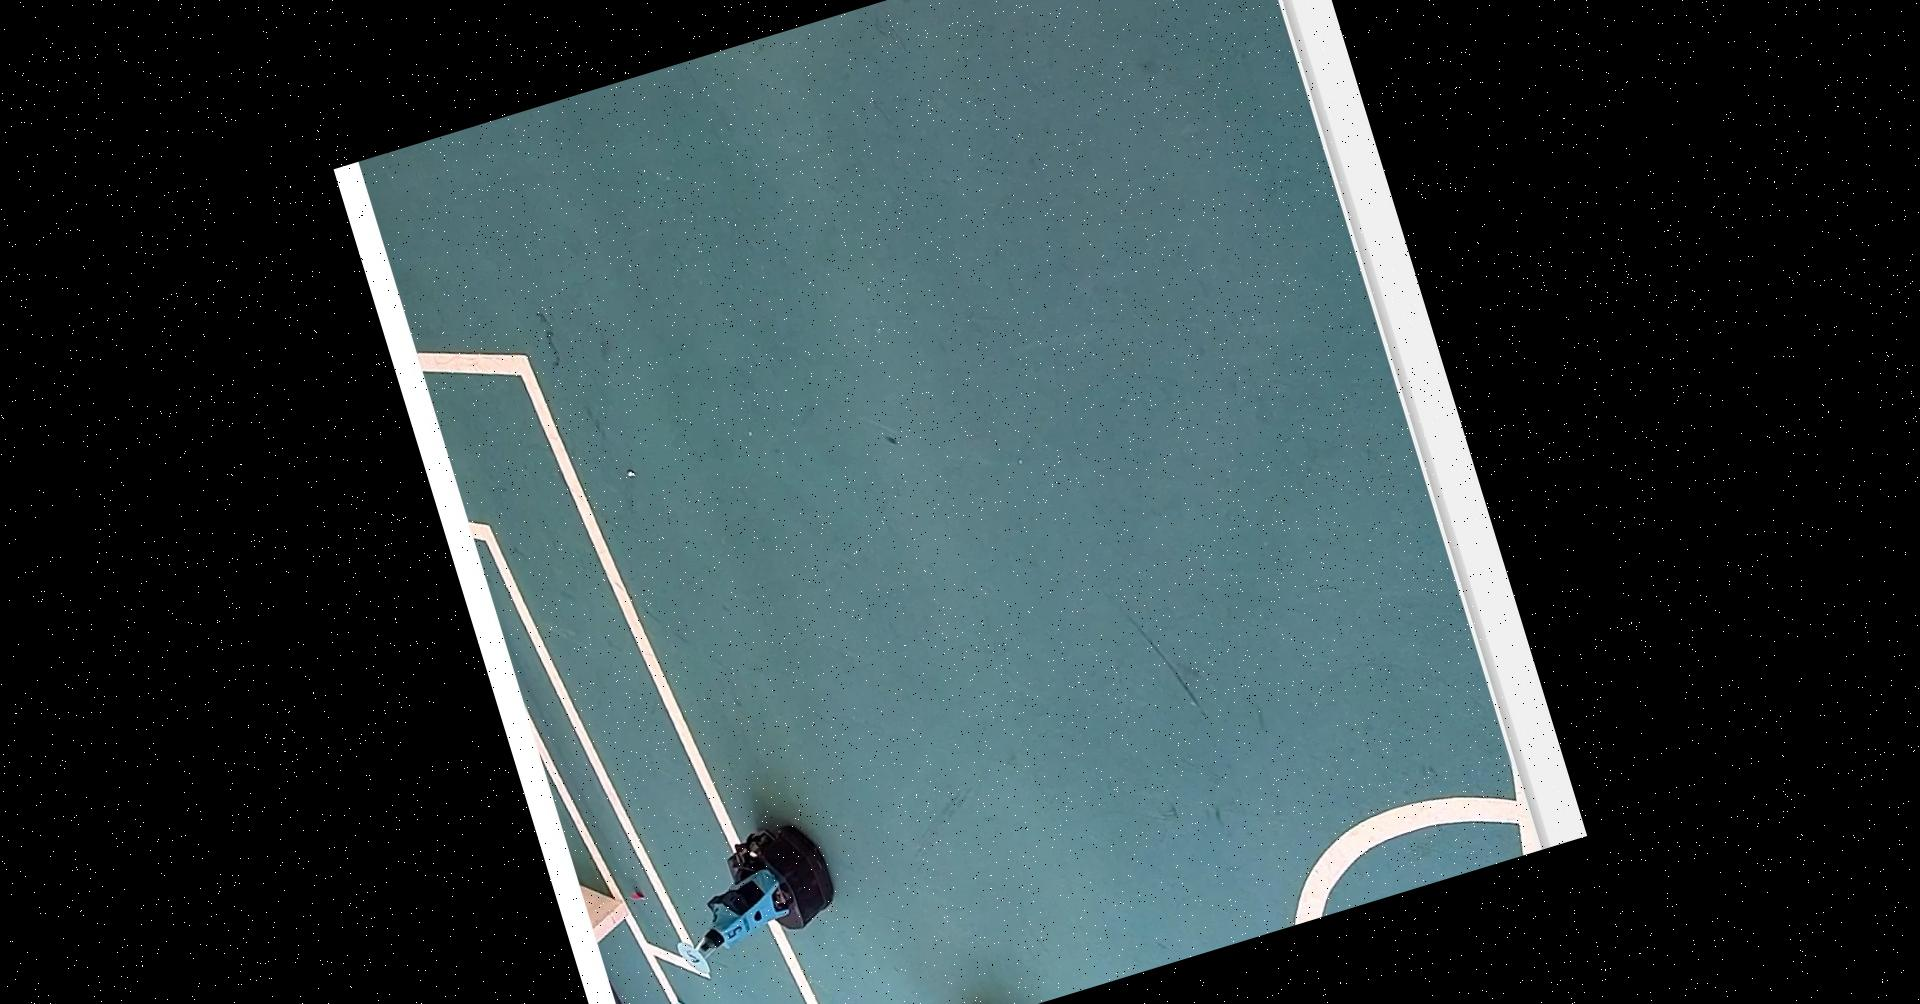Team_Blue: (636, 798, 851, 985)
